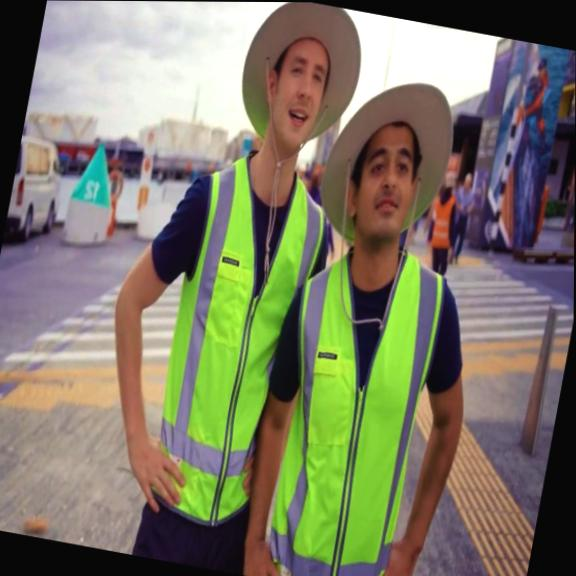safety_vest: (136, 138, 337, 542), (251, 227, 452, 576)
